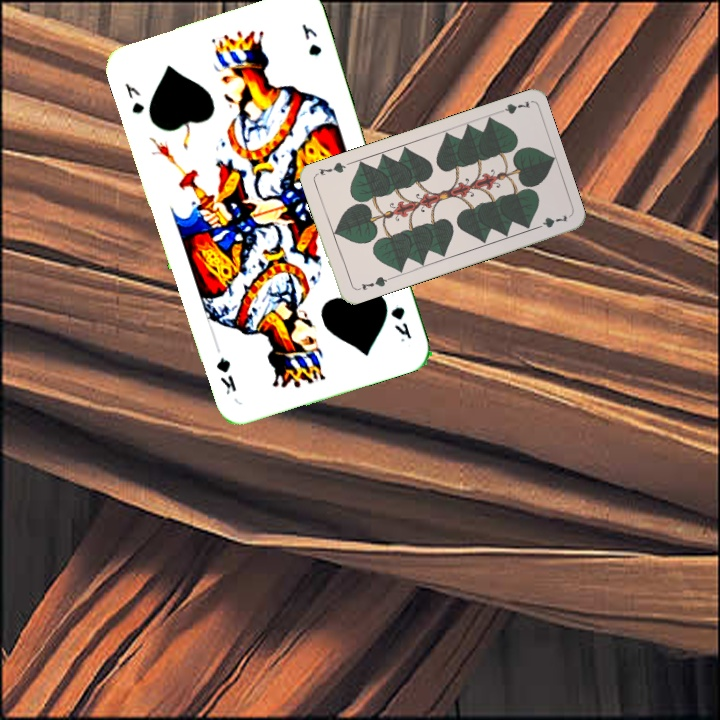G7: (352, 272, 392, 293), (492, 97, 533, 117)
GK: (386, 302, 414, 344), (120, 79, 147, 117)
